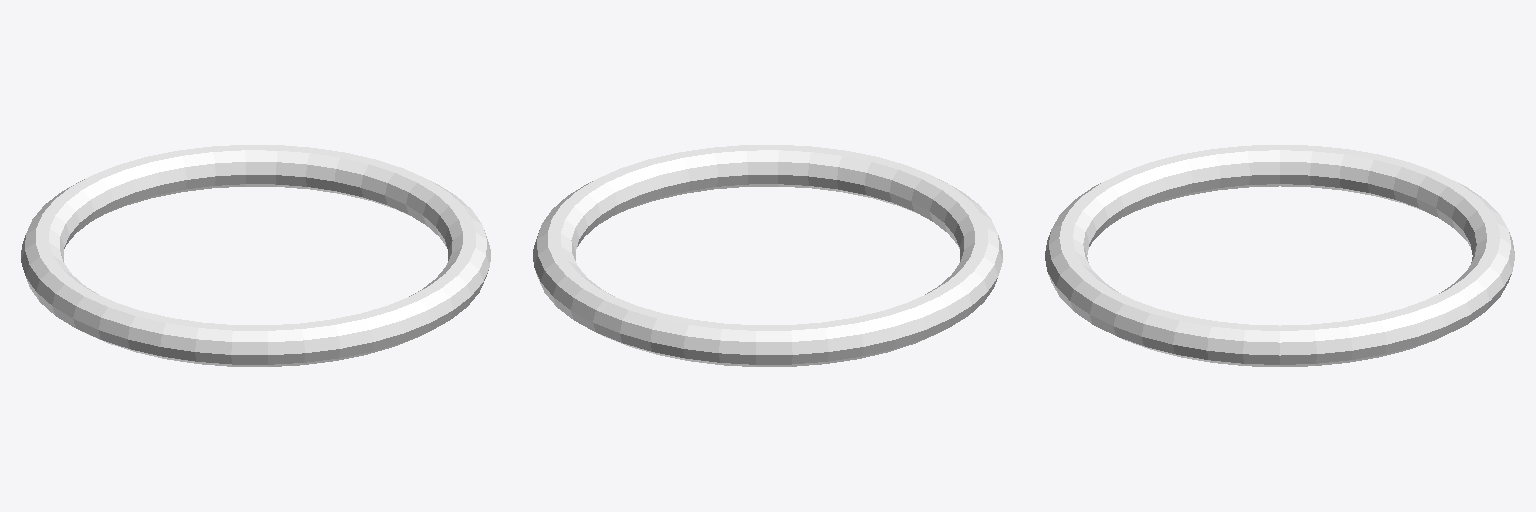
The picture shows the model from 3 angles: view 1: azimuth 30°, elevation 25°; view 2: azimuth 150°, elevation 25°; view 3: azimuth 270°, elevation 25°; orthographic projection.
Visible parts, largest first — view 1: pTorus1; view 2: pTorus1; view 3: pTorus1.
Part boxes in pixels (x1,y1,x2,y2): pTorus1: (21,145,490,366); pTorus1: (533,145,1002,366); pTorus1: (1045,145,1514,366).
Size of the model in its own units: 16.26 by 1.38 by 16.26.
1 materials, 1 textured.